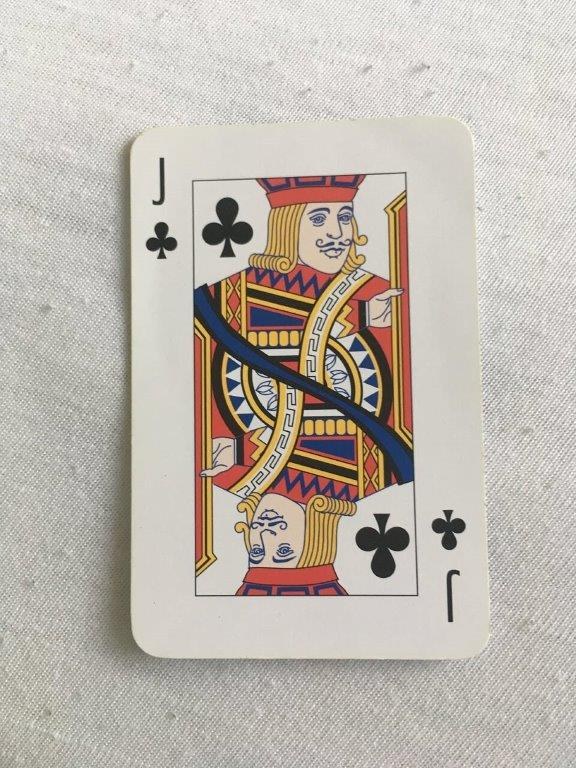JC: (125, 112, 494, 664)
